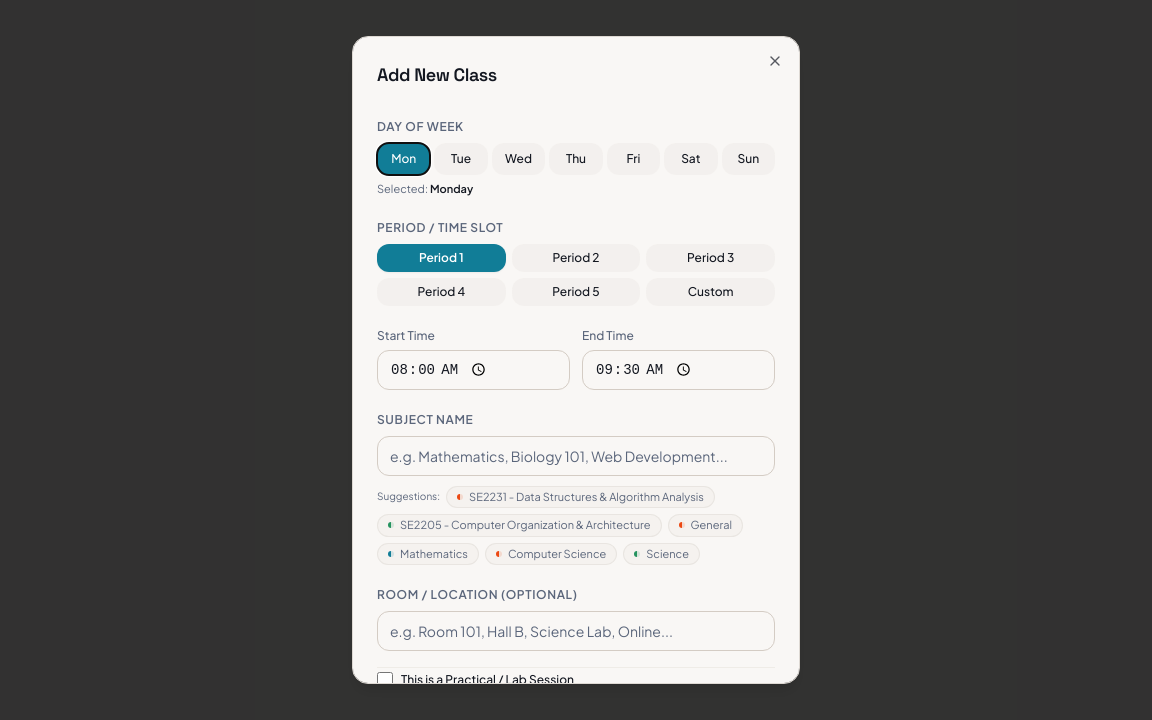
Test: ClassFormModal Subject Autofill › filters and displays existing schedule classes when the student types a search query
The image size is (1152, 720).
Type "d" in the subject input
Type "d" into the field labelled "Subject Name" at (576, 456), box [377,436,775,476]
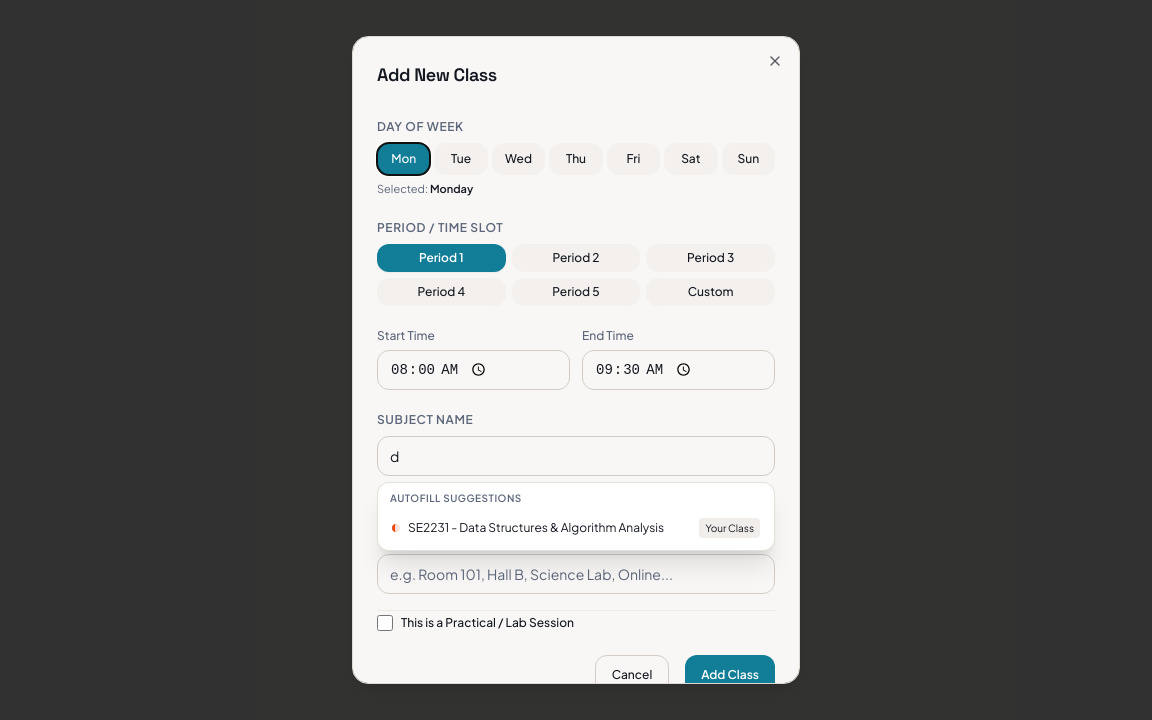
Expected: the text "SE2231 - Data Structures & Algorithm Analysis" is shown
Click the matching suggestion
Click the text "SE2231 - Data Structures & Algorithm Analysis" at (536, 528), box [408,520,664,536]
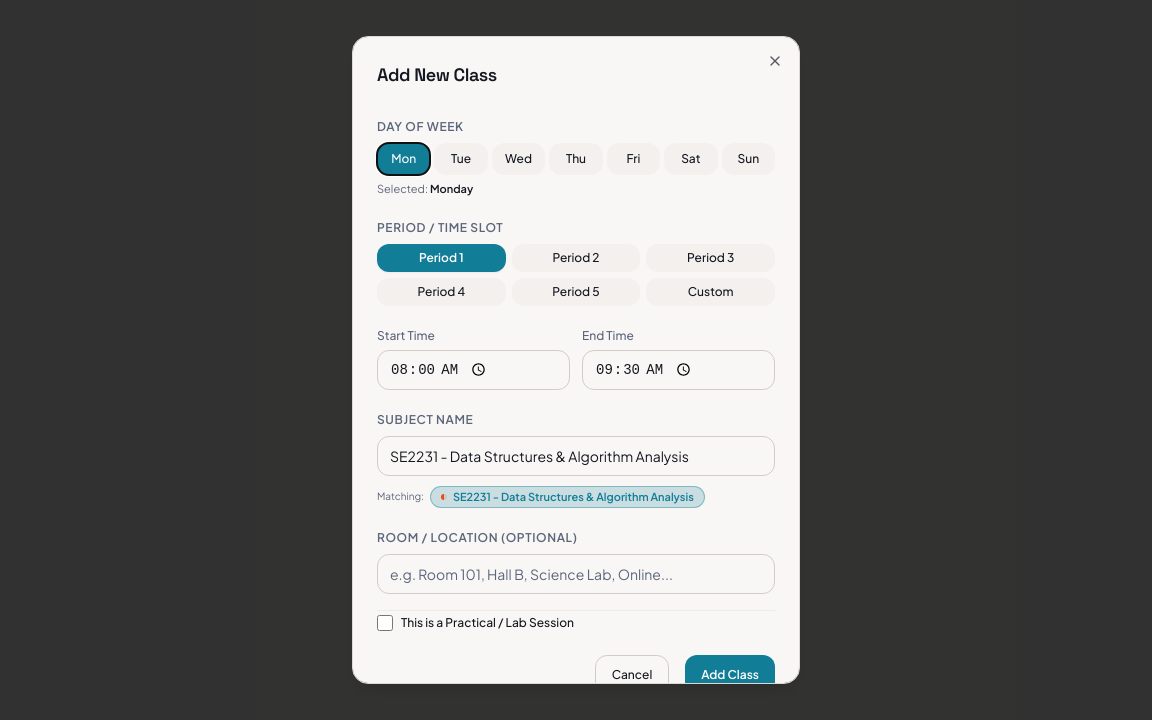
Expected: the field labelled "Subject Name" holds "SE2231 - Data Structures & Algorithm Analysis", [377,436,775,476]
